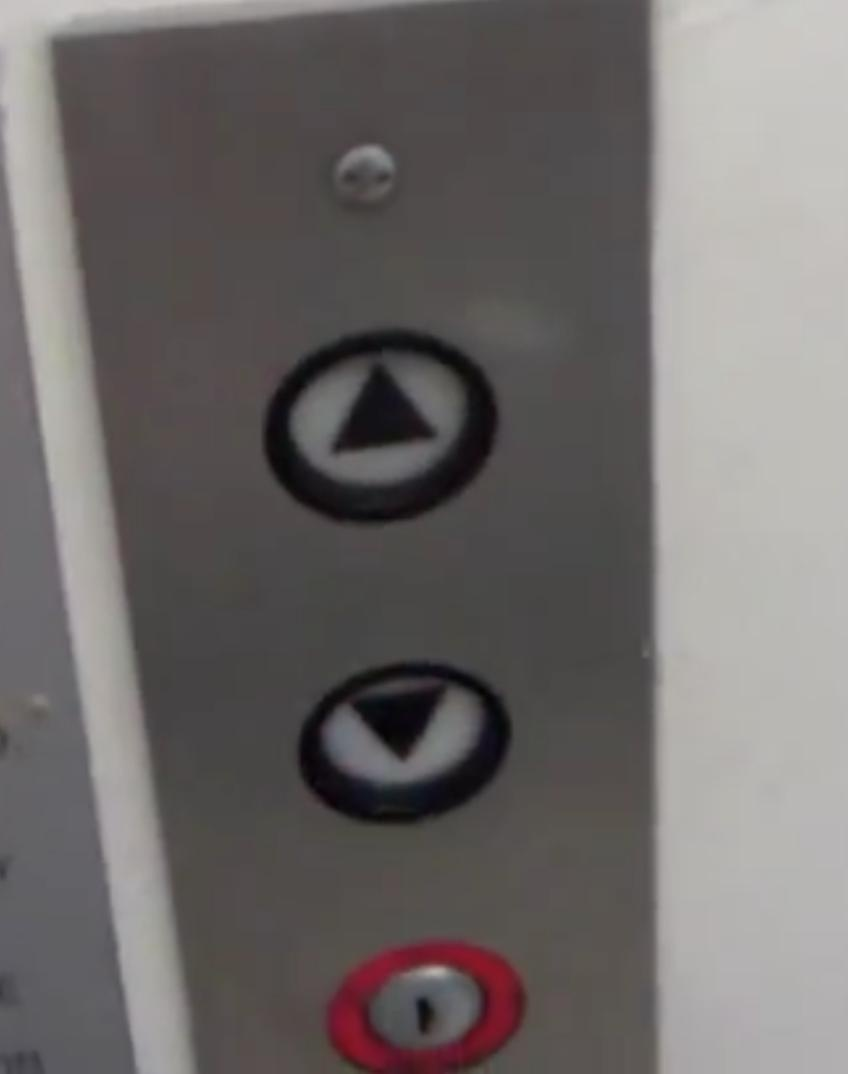down: (294, 652, 515, 831)
keyhole: (315, 930, 537, 1074)
up: (257, 318, 506, 531)
